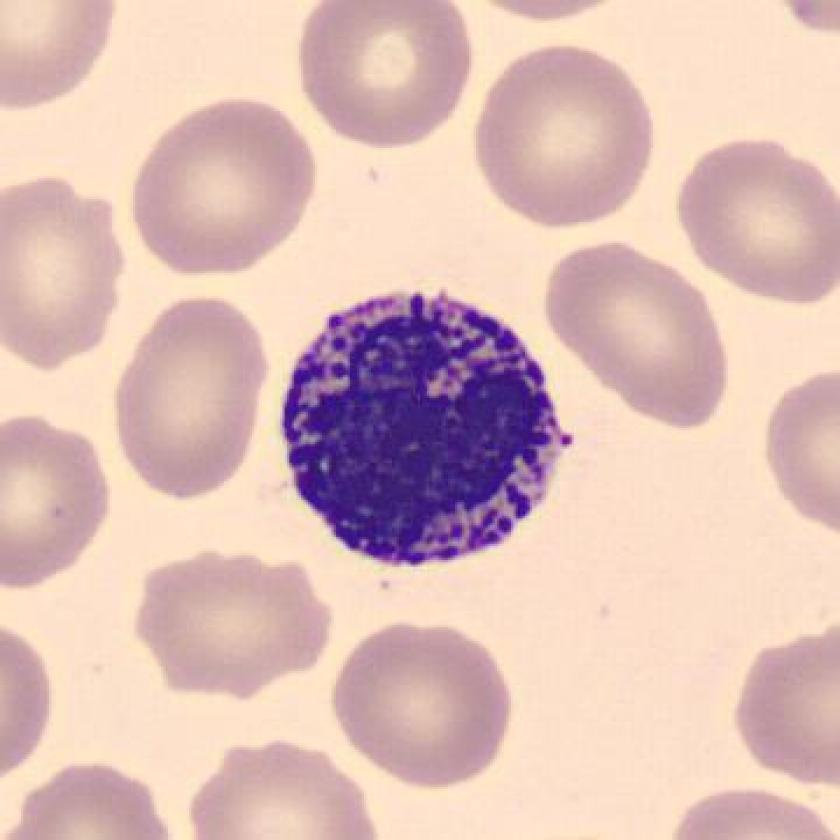basophil: (267, 274, 582, 598)
